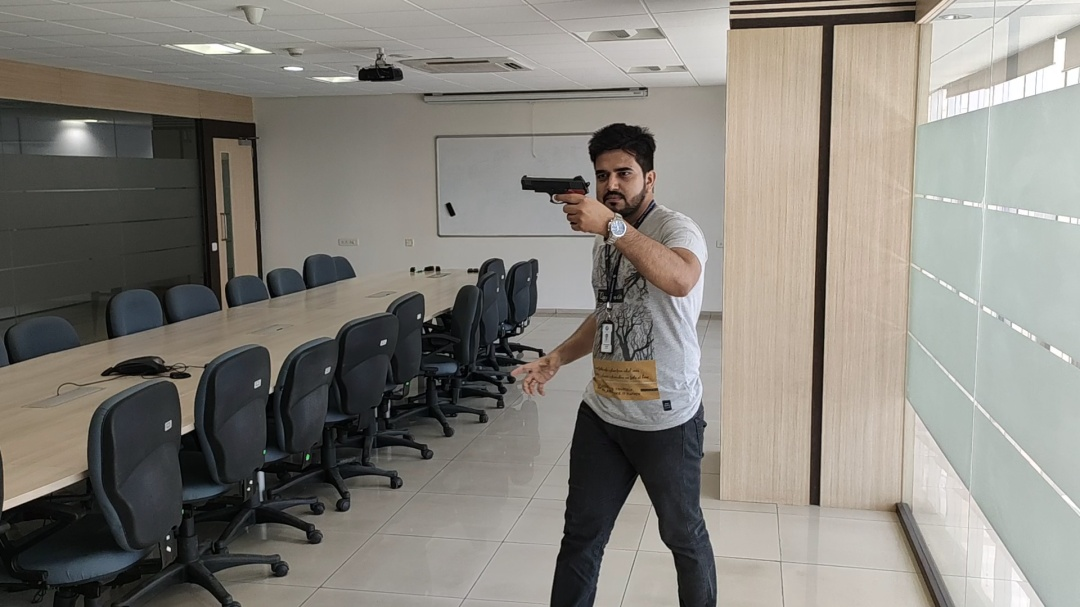gun: (515, 167, 592, 203)
